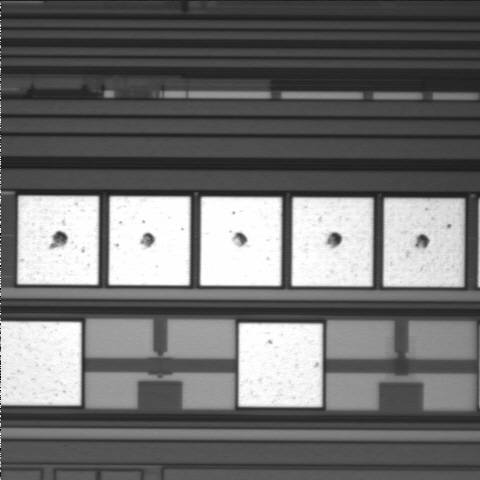pad: (200, 197, 282, 286), (18, 196, 99, 285), (109, 196, 190, 285), (383, 198, 464, 287), (292, 198, 373, 286), (239, 323, 323, 407)
